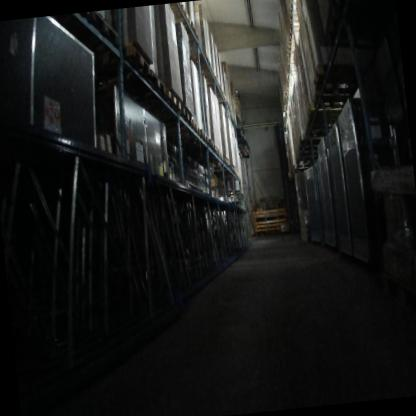pallet: (90, 9, 120, 50), (122, 40, 151, 80), (148, 68, 166, 95), (311, 63, 328, 91), (163, 86, 181, 112), (170, 4, 190, 27), (189, 52, 210, 69), (178, 105, 193, 127), (184, 21, 199, 42), (210, 164, 235, 174), (287, 7, 299, 25), (205, 75, 220, 89), (189, 119, 200, 136), (310, 90, 321, 107), (201, 66, 215, 78), (199, 128, 209, 144), (212, 84, 224, 97), (285, 43, 296, 56), (208, 138, 215, 152), (286, 55, 294, 66), (214, 145, 220, 157), (289, 0, 299, 7), (223, 156, 229, 167), (219, 152, 223, 161)
